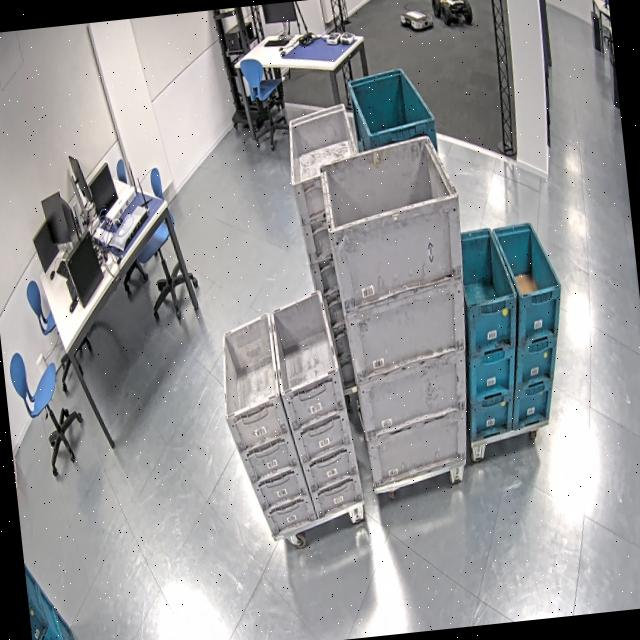Box3G: (282, 102, 368, 224), (296, 208, 336, 267), (30, 582, 67, 640), (307, 252, 339, 294)
Box8G: (316, 131, 468, 314), (336, 270, 474, 382), (266, 286, 346, 434), (213, 310, 291, 446), (356, 347, 472, 438), (364, 399, 473, 490), (232, 424, 302, 486), (290, 406, 354, 470), (298, 440, 358, 488), (308, 469, 364, 517), (260, 493, 320, 536), (250, 466, 310, 508)
BoxB4: (345, 66, 440, 158)
BoxB8: (498, 222, 573, 354), (456, 234, 526, 367), (462, 342, 521, 402), (510, 339, 565, 395), (462, 392, 518, 444), (513, 381, 553, 425)
